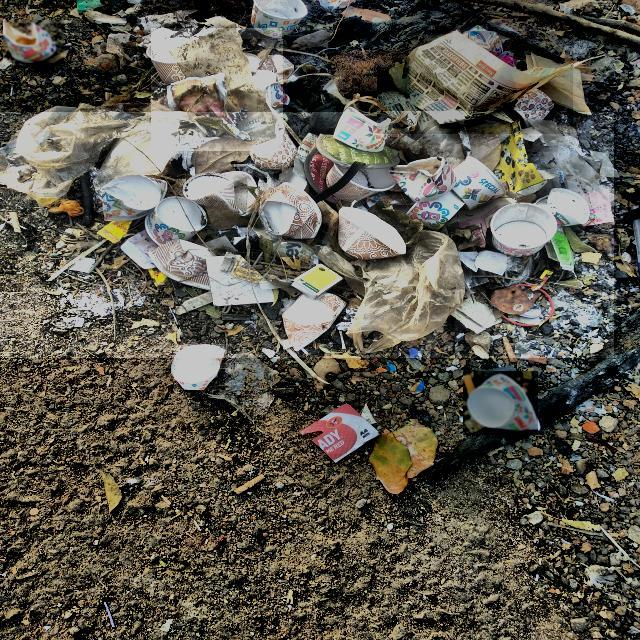anorganik: (0, 112, 614, 358), (152, 28, 282, 151), (463, 371, 538, 435), (237, 0, 309, 39), (175, 344, 230, 394), (3, 20, 64, 63)
organik: (378, 32, 573, 134)
